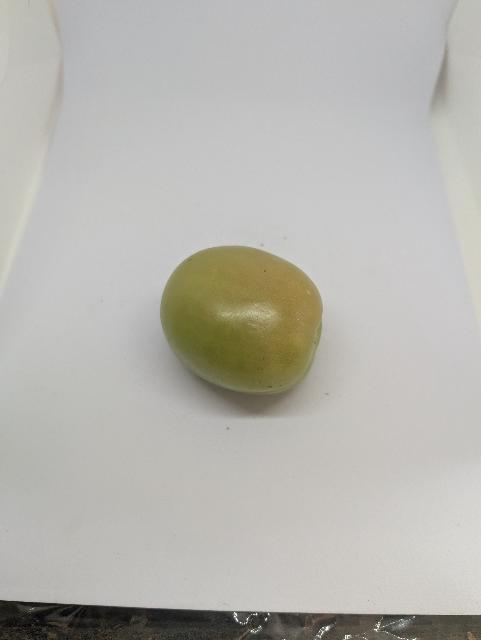breaker: (160, 246, 327, 404)
